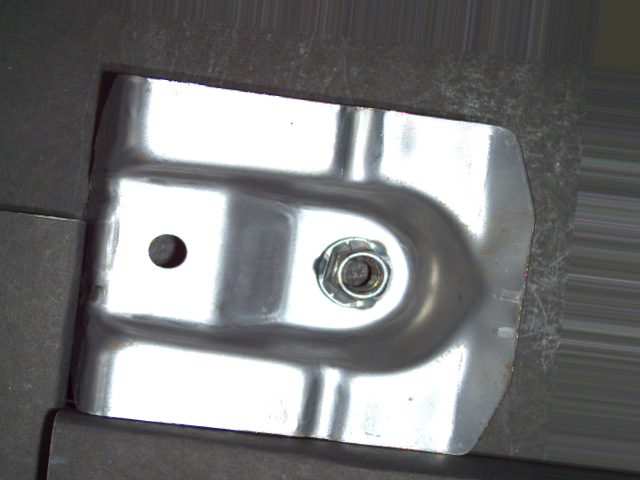good: (309, 235, 397, 315)
